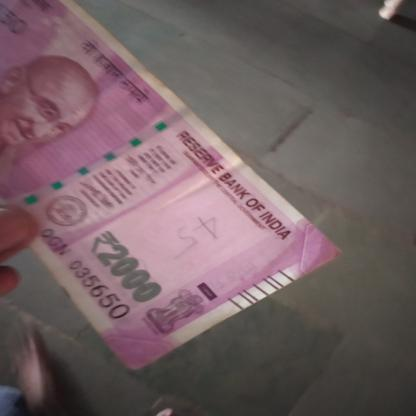New2000Front: (0, 0, 312, 347)
